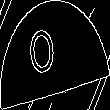O_S: (40, 26, 70, 84)
